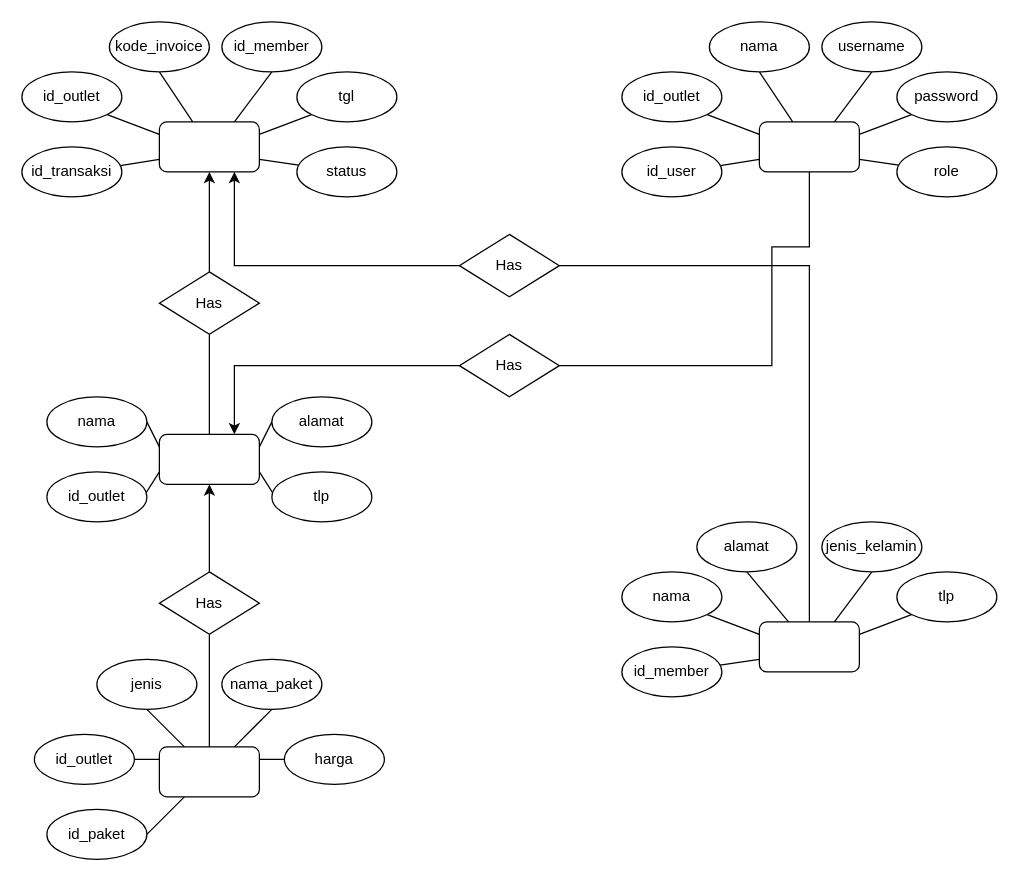
The diagram is 1019 pixels wide and 881 high, and some of its shapes have lost their labels. Here are the shapes that lost their labels. From the top down, the box of each, then its label:
(158, 121, 259, 172): Transaksi
(758, 121, 859, 172): User
(158, 433, 259, 484): Outlet
(758, 621, 859, 672): Member
(158, 746, 259, 797): Paket
